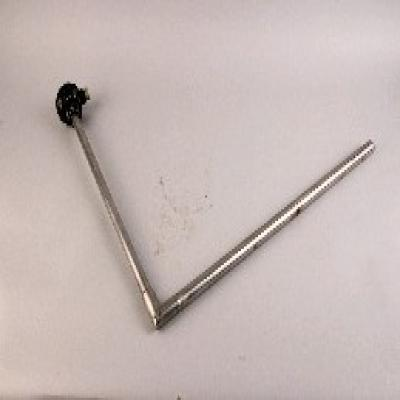technique: (57, 86, 374, 330)
